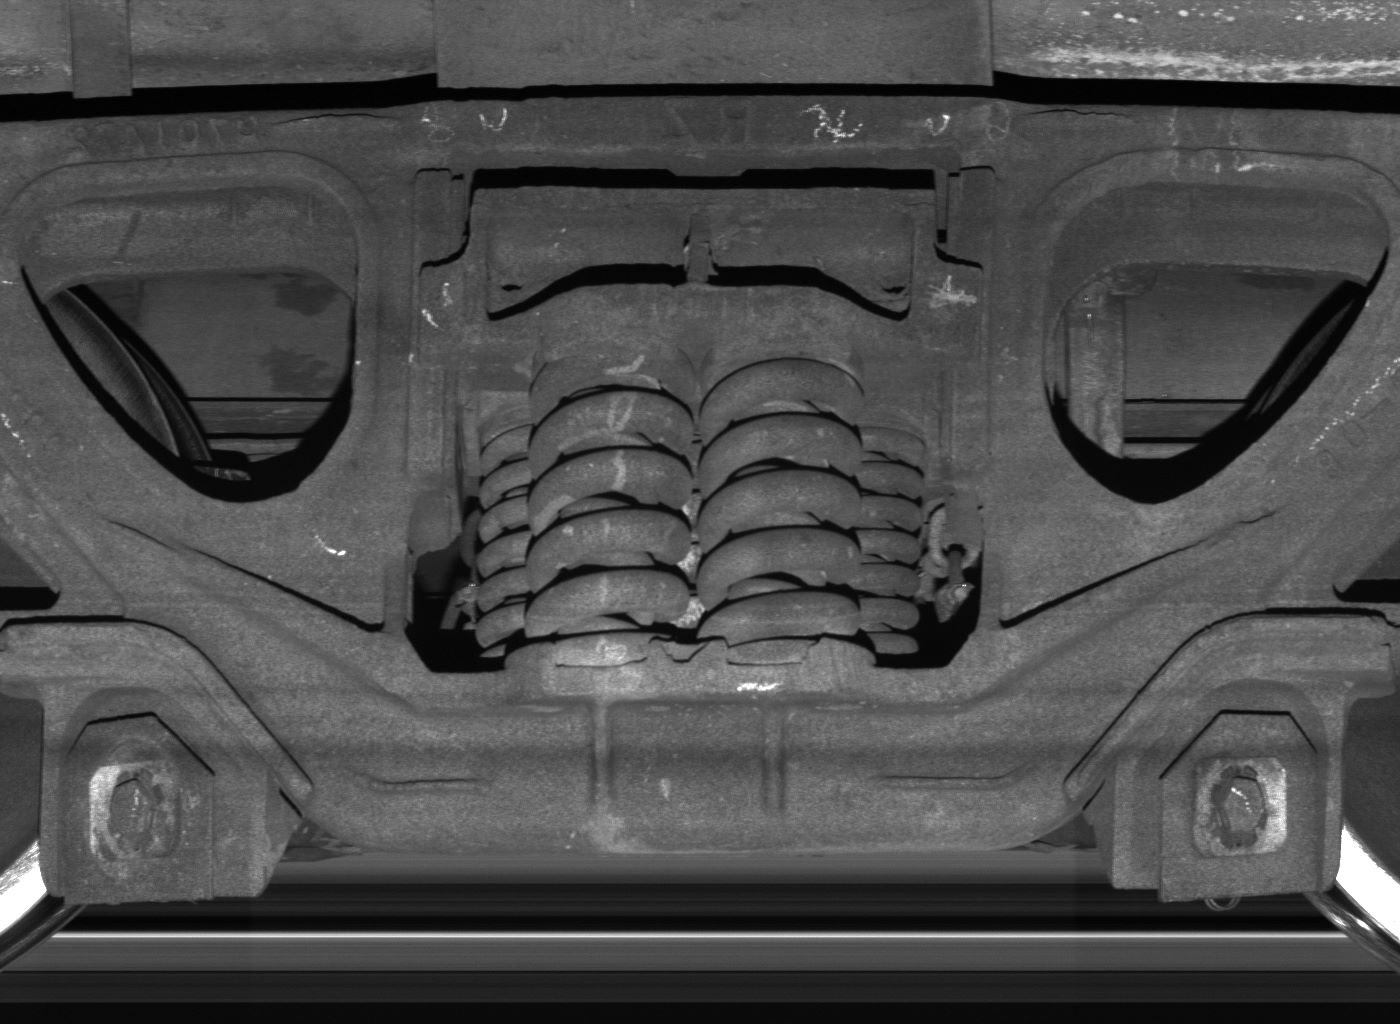Locking plate: (1115, 676, 1346, 906)
normal: (43, 676, 268, 903)
